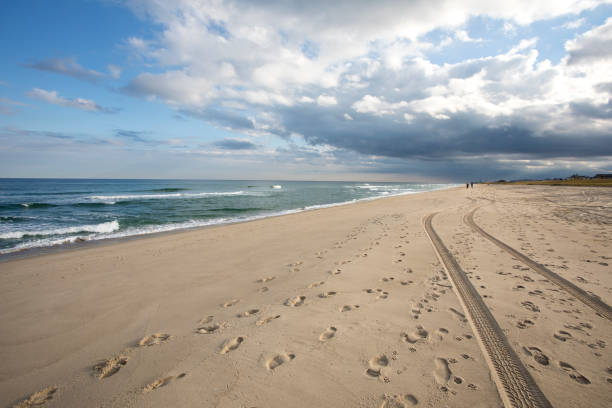vehicle_track: (424, 213, 550, 407), (464, 208, 611, 319)
